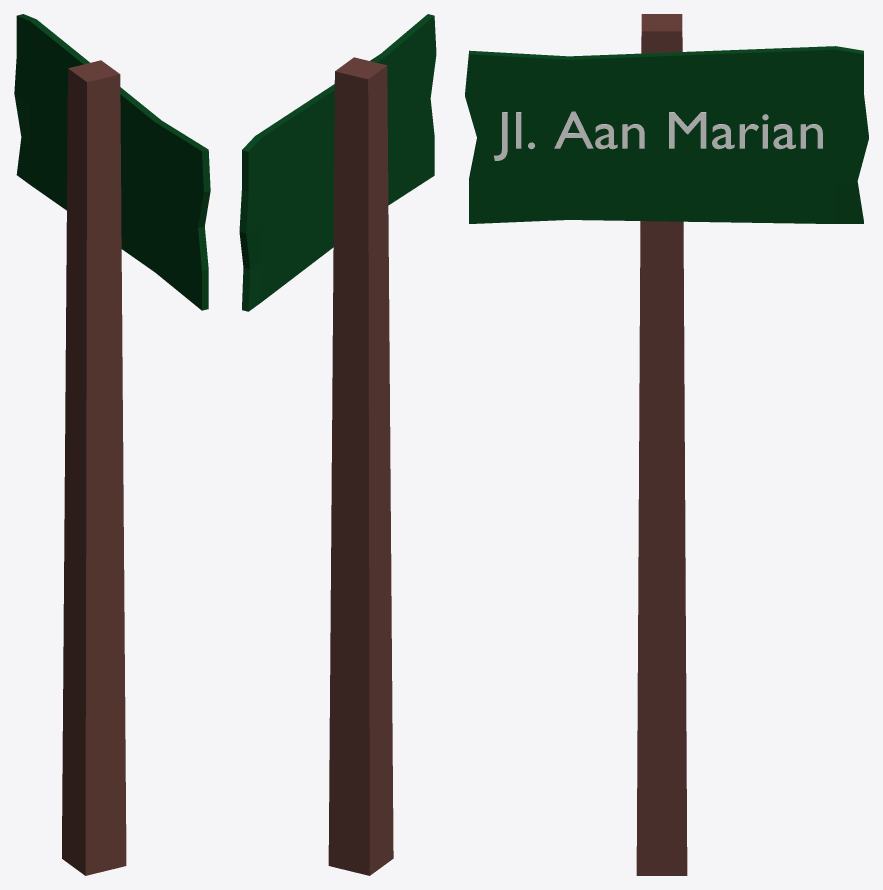
The model's file is PlangJalan-3.fbx.
3 views of the same model, side by side, from view 1: azimuth 30°, elevation 25°; view 2: azimuth 150°, elevation 25°; view 3: azimuth 270°, elevation 25° (orthographic). The views are drawn at different scales.
Parts seen in each view (by area): view 1: Cube, Cube.001; view 2: Cube, Cube.001; view 3: Cube.001, Cube, Text.
Boxes of the visible parts, x1,y1,x2,y2 form: Cube: (62,60,126,875); Cube.001: (14,14,210,310); Cube: (328,57,393,875); Cube.001: (239,14,436,311); Cube.001: (465,46,868,223); Cube: (636,14,687,875); Text: (494,111,822,160).
Bounding box in the file's own units: 28.73 × 471 × 205.
